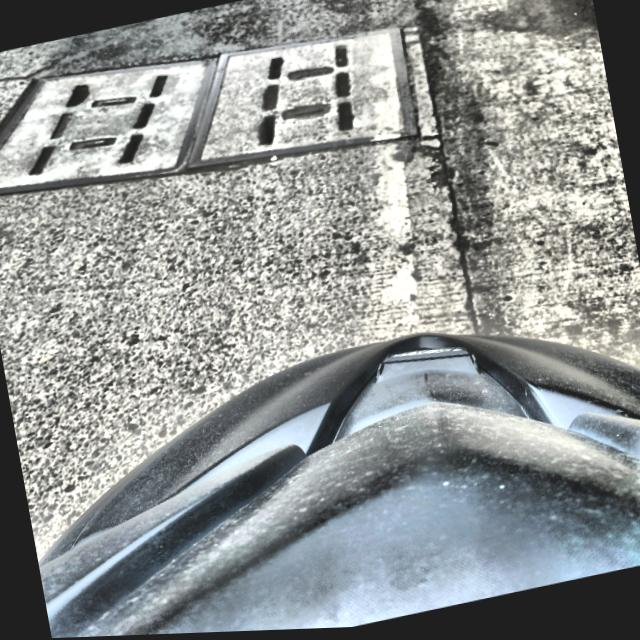cracks: (375, 138, 419, 321), (366, 31, 403, 138)
